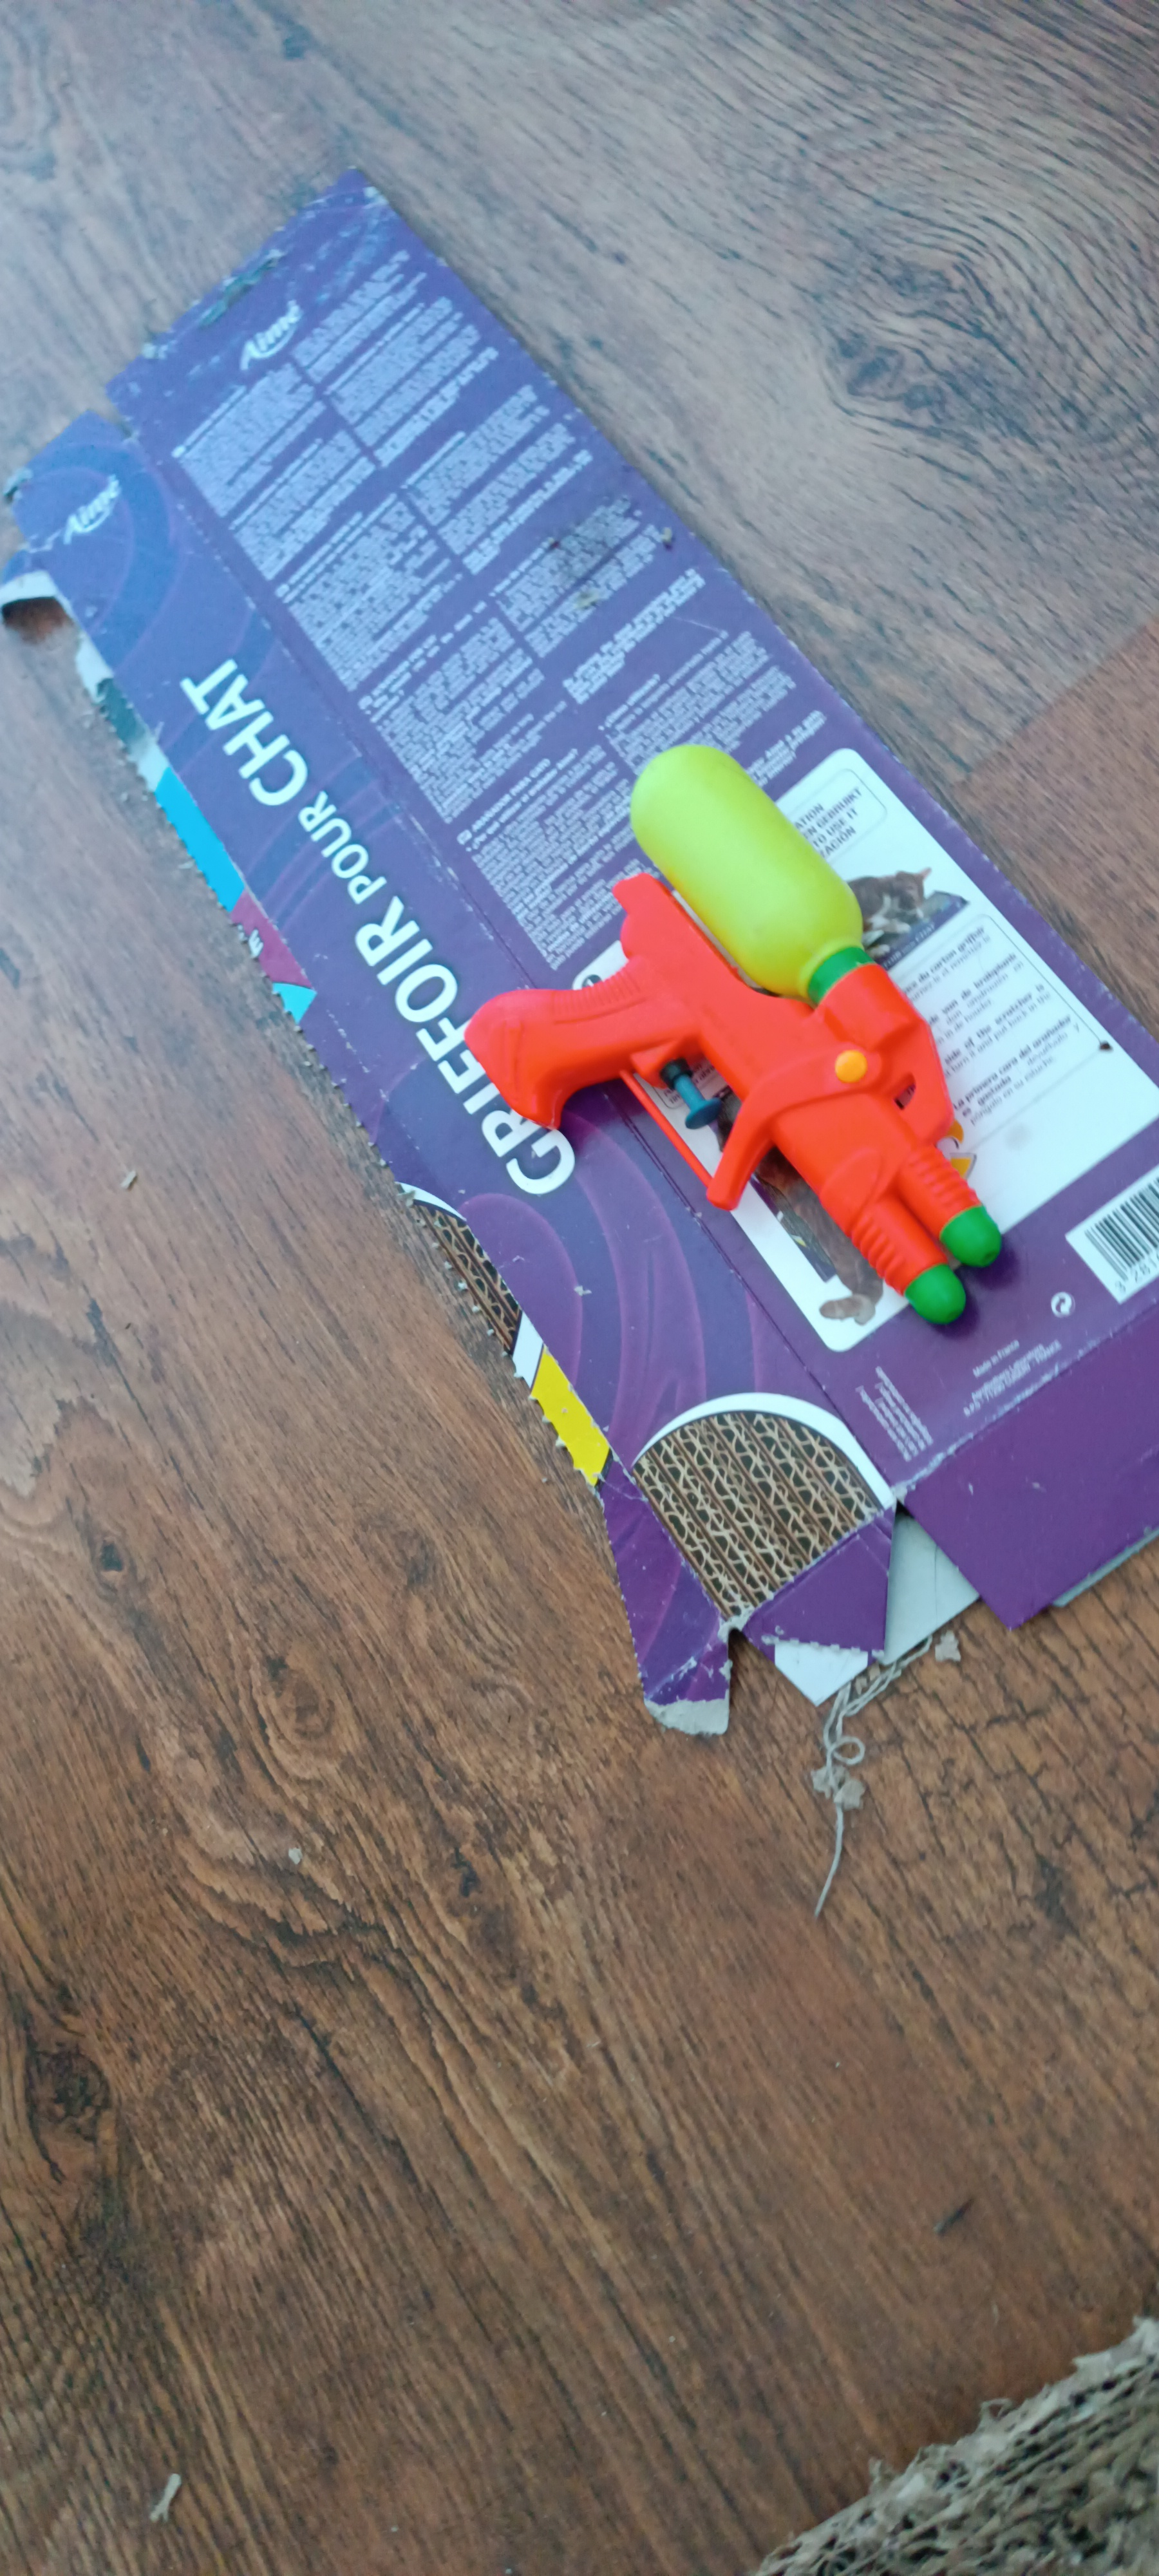Water Gun: (463, 746, 1005, 1324)
